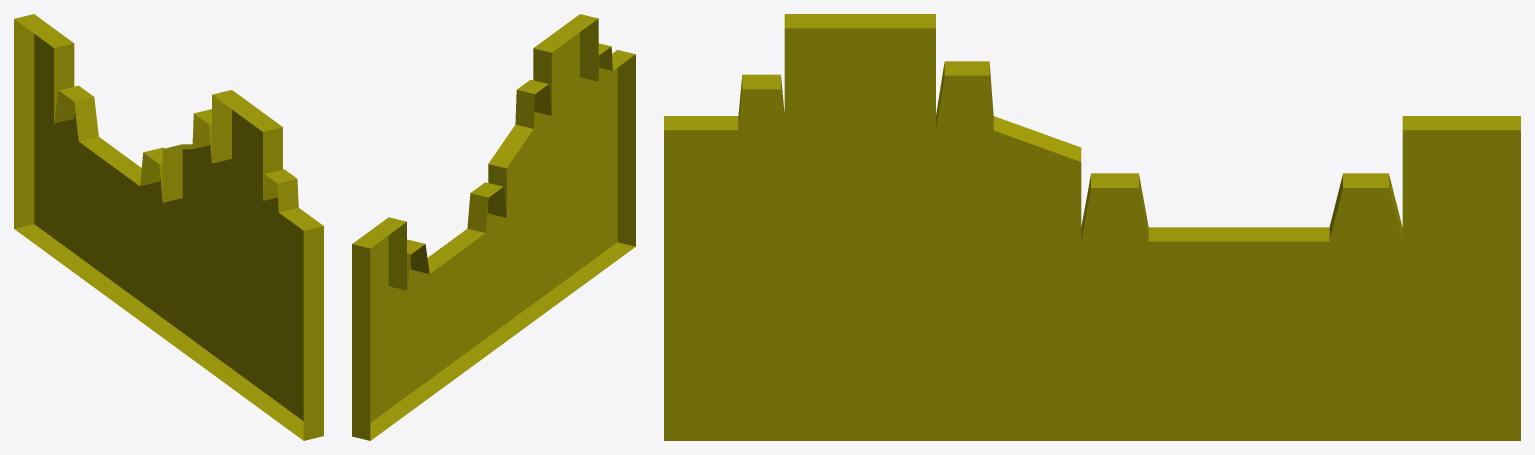
File: plateau_left.fbx
3 renders of one model, left to right at view 1: azimuth 30°, elevation 25°; view 2: azimuth 150°, elevation 25°; view 3: azimuth 270°, elevation 25°, orthographic. The views are drawn at different scales.
Visible parts, largest first — view 1: plateau_left; view 2: plateau_left; view 3: plateau_left.
Boxes of the visible parts, bbox=[...] form: plateau_left: bbox=[14, 14, 323, 440]; plateau_left: bbox=[352, 14, 635, 440]; plateau_left: bbox=[664, 14, 1520, 440].
Size of the model in its own units: 1 by 13.28 by 25.
